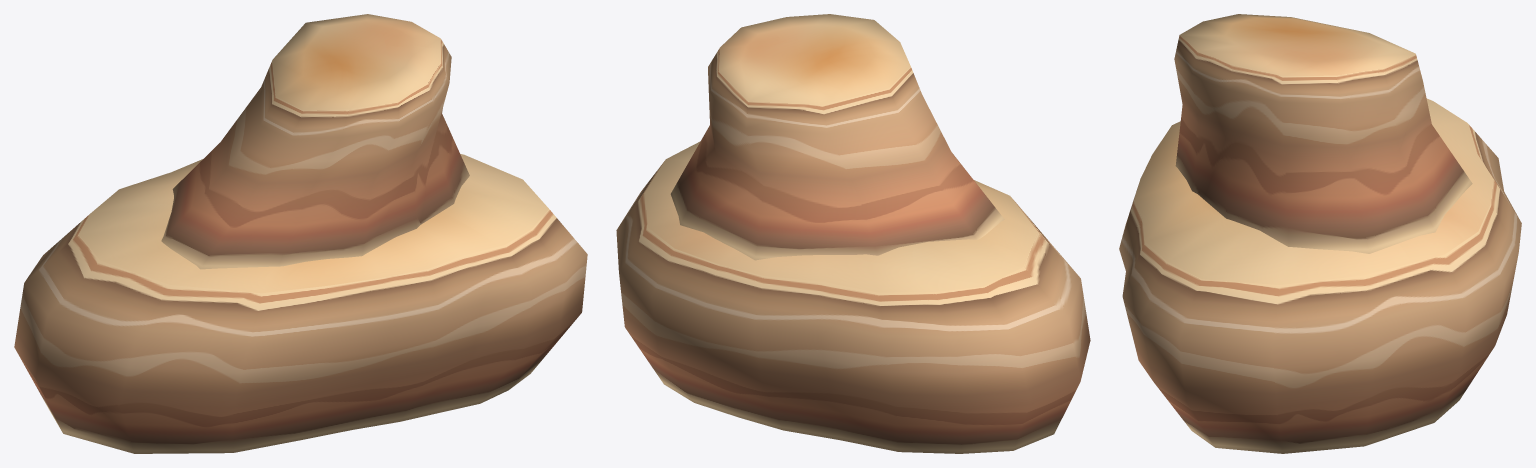
File: Mount_Big_05.FBX
3 renders of one model, left to right at view 1: azimuth 30°, elevation 25°; view 2: azimuth 150°, elevation 25°; view 3: azimuth 270°, elevation 25°, orthographic. The views are drawn at different scales.
Parts seen in each view (by area): view 1: Mount_Big_05; view 2: Mount_Big_05; view 3: Mount_Big_05.
Part boxes in pixels (x1,y1,x2,y2): Mount_Big_05: (14, 14, 587, 453); Mount_Big_05: (616, 14, 1090, 453); Mount_Big_05: (1119, 14, 1521, 453).
Bounding box in the file's own units: 33.21 × 21.18 × 22.43.
